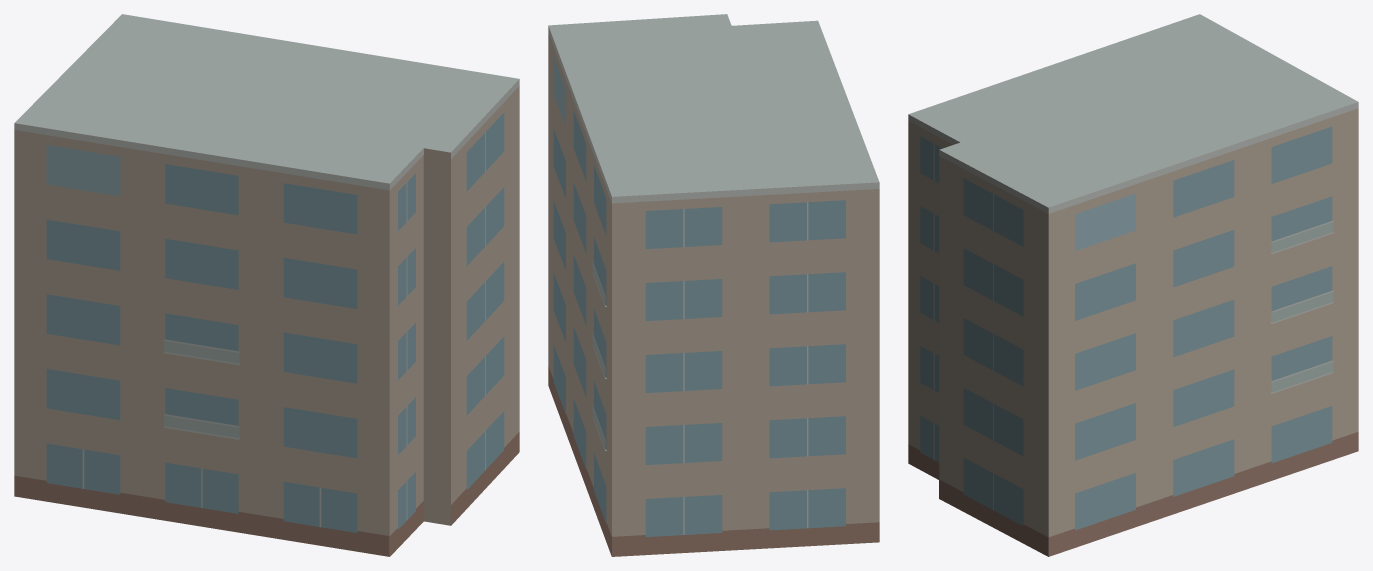
File: survey-upis-32838957.glb
3 views of the same model, side by side, from view 1: azimuth 30°, elevation 25°; view 2: azimuth 150°, elevation 25°; view 3: azimuth 270°, elevation 25° (orthographic). The views are drawn at different scales.
Visible parts, largest first — view 1: survey-upis-32838957.tmp; view 2: survey-upis-32838957.tmp; view 3: survey-upis-32838957.tmp.
Boxes of the visible parts, left/top/right/bottom form: survey-upis-32838957.tmp: left=14, top=14, right=519, bottom=556; survey-upis-32838957.tmp: left=548, top=14, right=879, bottom=556; survey-upis-32838957.tmp: left=908, top=14, right=1358, bottom=556.
Bounding box in the file's own units: 16.07 × 13.5 × 15.79.
